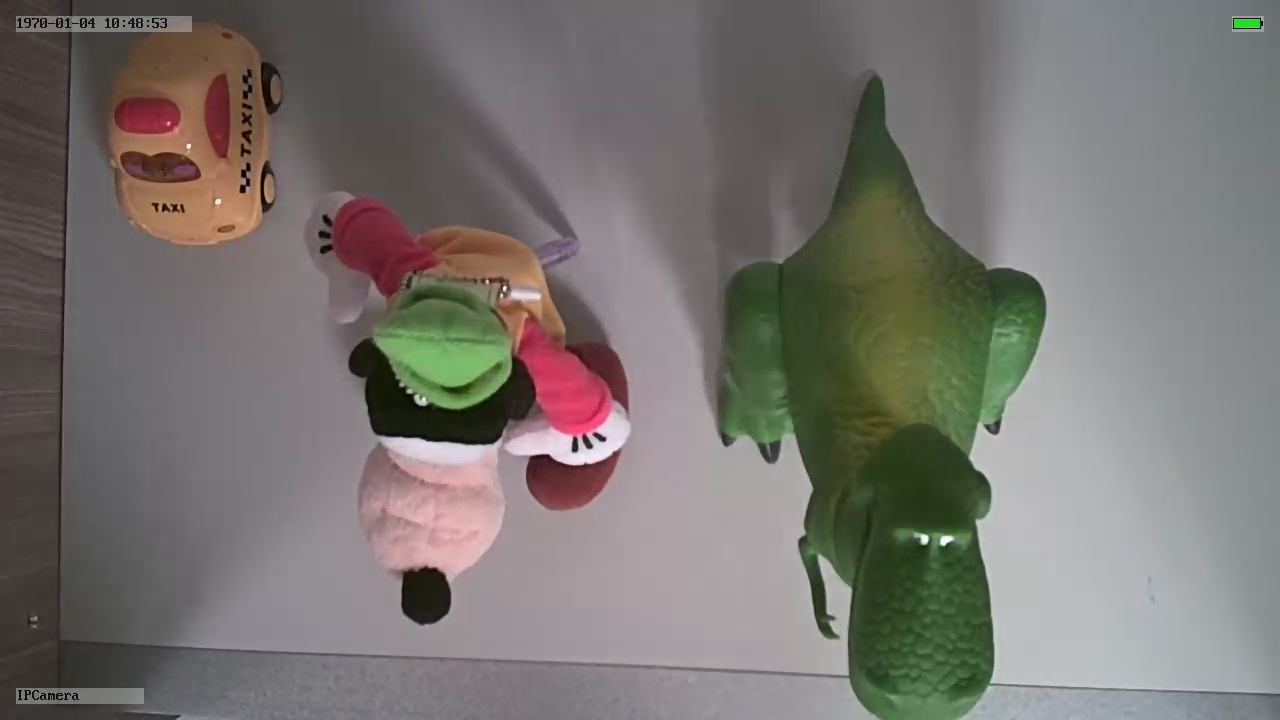car: (107, 20, 282, 246)
goofy: (298, 182, 634, 635)
rex: (714, 170, 1048, 720)
